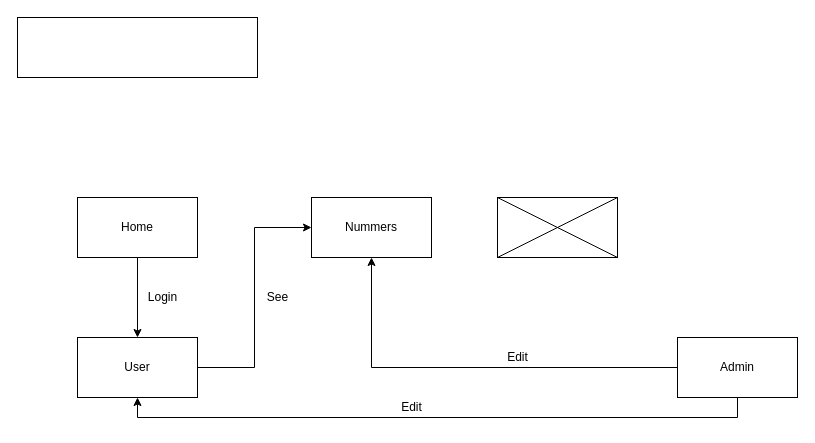
The diagram is 815 pixels wide and 443 high, and some of its shapes have lost their labels. Here are the shapes that lost their labels. From the top down, the centre of each, then its label:
At [137,47]: "Website".
At [557,227]: "Artiesten".
